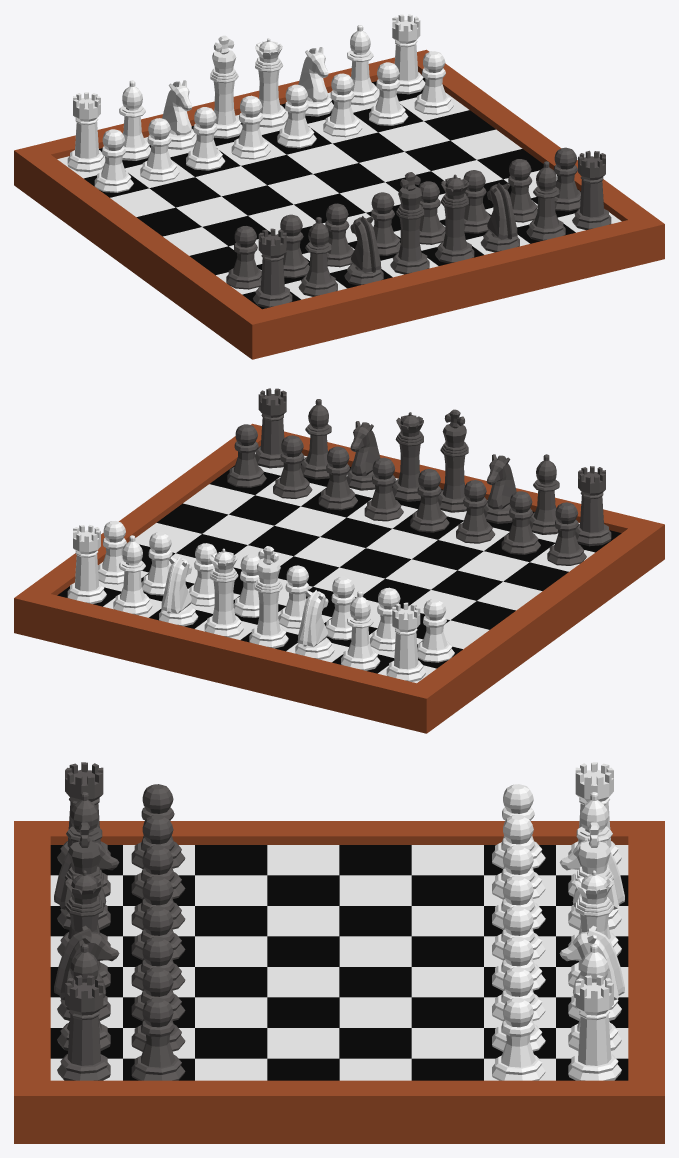
Rendered from chess.fbx.
The picture shows the model from 3 angles, top to bottom: view 1: azimuth 30°, elevation 25°; view 2: azimuth 150°, elevation 25°; view 3: azimuth 270°, elevation 25°; orthographic projection. The views are drawn at different scales.
Visible parts, largest first — view 1: ChessBoard.001, BlackKing.001, WhiteKing.001, BlackQueen.001, WhiteRook.002, BlackRook.002, BlackRook.003, WhiteQueen.001, WhiteRook.003, BlackKnight.002, BlackKnight.003, BlackBishop.003 (+21 smaller); view 2: ChessBoard.001, WhiteKing.001, BlackKing.001, WhiteQueen.001, BlackRook.002, WhiteRook.002, WhiteRook.003, BlackQueen.001, BlackRook.003, WhiteKnight.002, WhiteKnight.003, WhiteBishop.002 (+21 smaller); view 3: ChessBoard.001, BlackRook.003, WhiteRook.003, BlackPawn.010, WhitePawn.008, BlackQueen.001, WhiteQueen.001, BlackKnight.002, WhiteKnight.002, BlackRook.002, WhiteRook.002, BlackKing.001 (+21 smaller).
Boxes of the visible parts, left/top/right/bottom form: ChessBoard.001: left=14, top=49, right=664, bottom=359; BlackKing.001: left=390, top=172, right=429, bottom=274; WhiteKing.001: left=210, top=35, right=242, bottom=138; BlackQueen.001: left=435, top=174, right=474, bottom=263; WhiteRook.002: left=67, top=92, right=105, bottom=172; BlackRook.002: left=253, top=228, right=292, bottom=307; BlackRook.003: left=572, top=150, right=611, bottom=230; WhiteQueen.001: left=255, top=38, right=287, bottom=127; WhiteRook.003: left=392, top=14, right=425, bottom=94; BlackKnight.002: left=480, top=182, right=519, bottom=252; BlackKnight.003: left=344, top=216, right=383, bottom=285; BlackBishop.003: left=526, top=161, right=565, bottom=241; ChessBoard.001: left=14, top=423, right=664, bottom=733; WhiteKing.001: left=249, top=546, right=288, bottom=648; BlackKing.001: left=438, top=409, right=468, bottom=512; WhiteQueen.001: left=204, top=548, right=243, bottom=637; BlackRook.002: left=575, top=466, right=611, bottom=546; WhiteRook.002: left=386, top=602, right=425, bottom=681; WhiteRook.003: left=67, top=524, right=106, bottom=604; BlackQueen.001: left=392, top=412, right=423, bottom=501; BlackRook.003: left=255, top=388, right=286, bottom=468; WhiteKnight.002: left=159, top=556, right=198, bottom=626; WhiteKnight.003: left=295, top=590, right=334, bottom=659; WhiteBishop.002: left=113, top=535, right=152, bottom=615; ChessBoard.001: left=14, top=821, right=664, bottom=1143; BlackRook.003: left=57, top=975, right=110, bottom=1080; WhiteRook.003: left=568, top=975, right=621, bottom=1080; BlackPawn.010: left=131, top=997, right=185, bottom=1080; WhitePawn.008: left=492, top=997, right=545, bottom=1080; BlackQueen.001: left=65, top=870, right=110, bottom=987; WhiteQueen.001: left=568, top=870, right=613, bottom=987; BlackKnight.002: left=54, top=925, right=119, bottom=1020; WhiteKnight.002: left=559, top=925, right=624, bottom=1020; BlackRook.002: left=57, top=762, right=110, bottom=864; WhiteRook.002: left=568, top=762, right=621, bottom=864; BlackKing.001: left=57, top=822, right=110, bottom=955.
Size of the model in its own units: 75.21 by 21.35 by 75.21.
